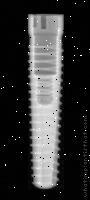Camlog: (24, 14, 64, 190)
